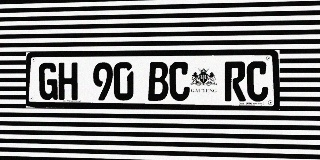0: (114, 62, 133, 100)
9: (93, 62, 113, 100)
B: (148, 62, 168, 101)
C: (247, 61, 268, 101), (169, 62, 190, 101)
G: (39, 63, 58, 100)
H: (58, 62, 78, 100)
R: (224, 61, 246, 101)
